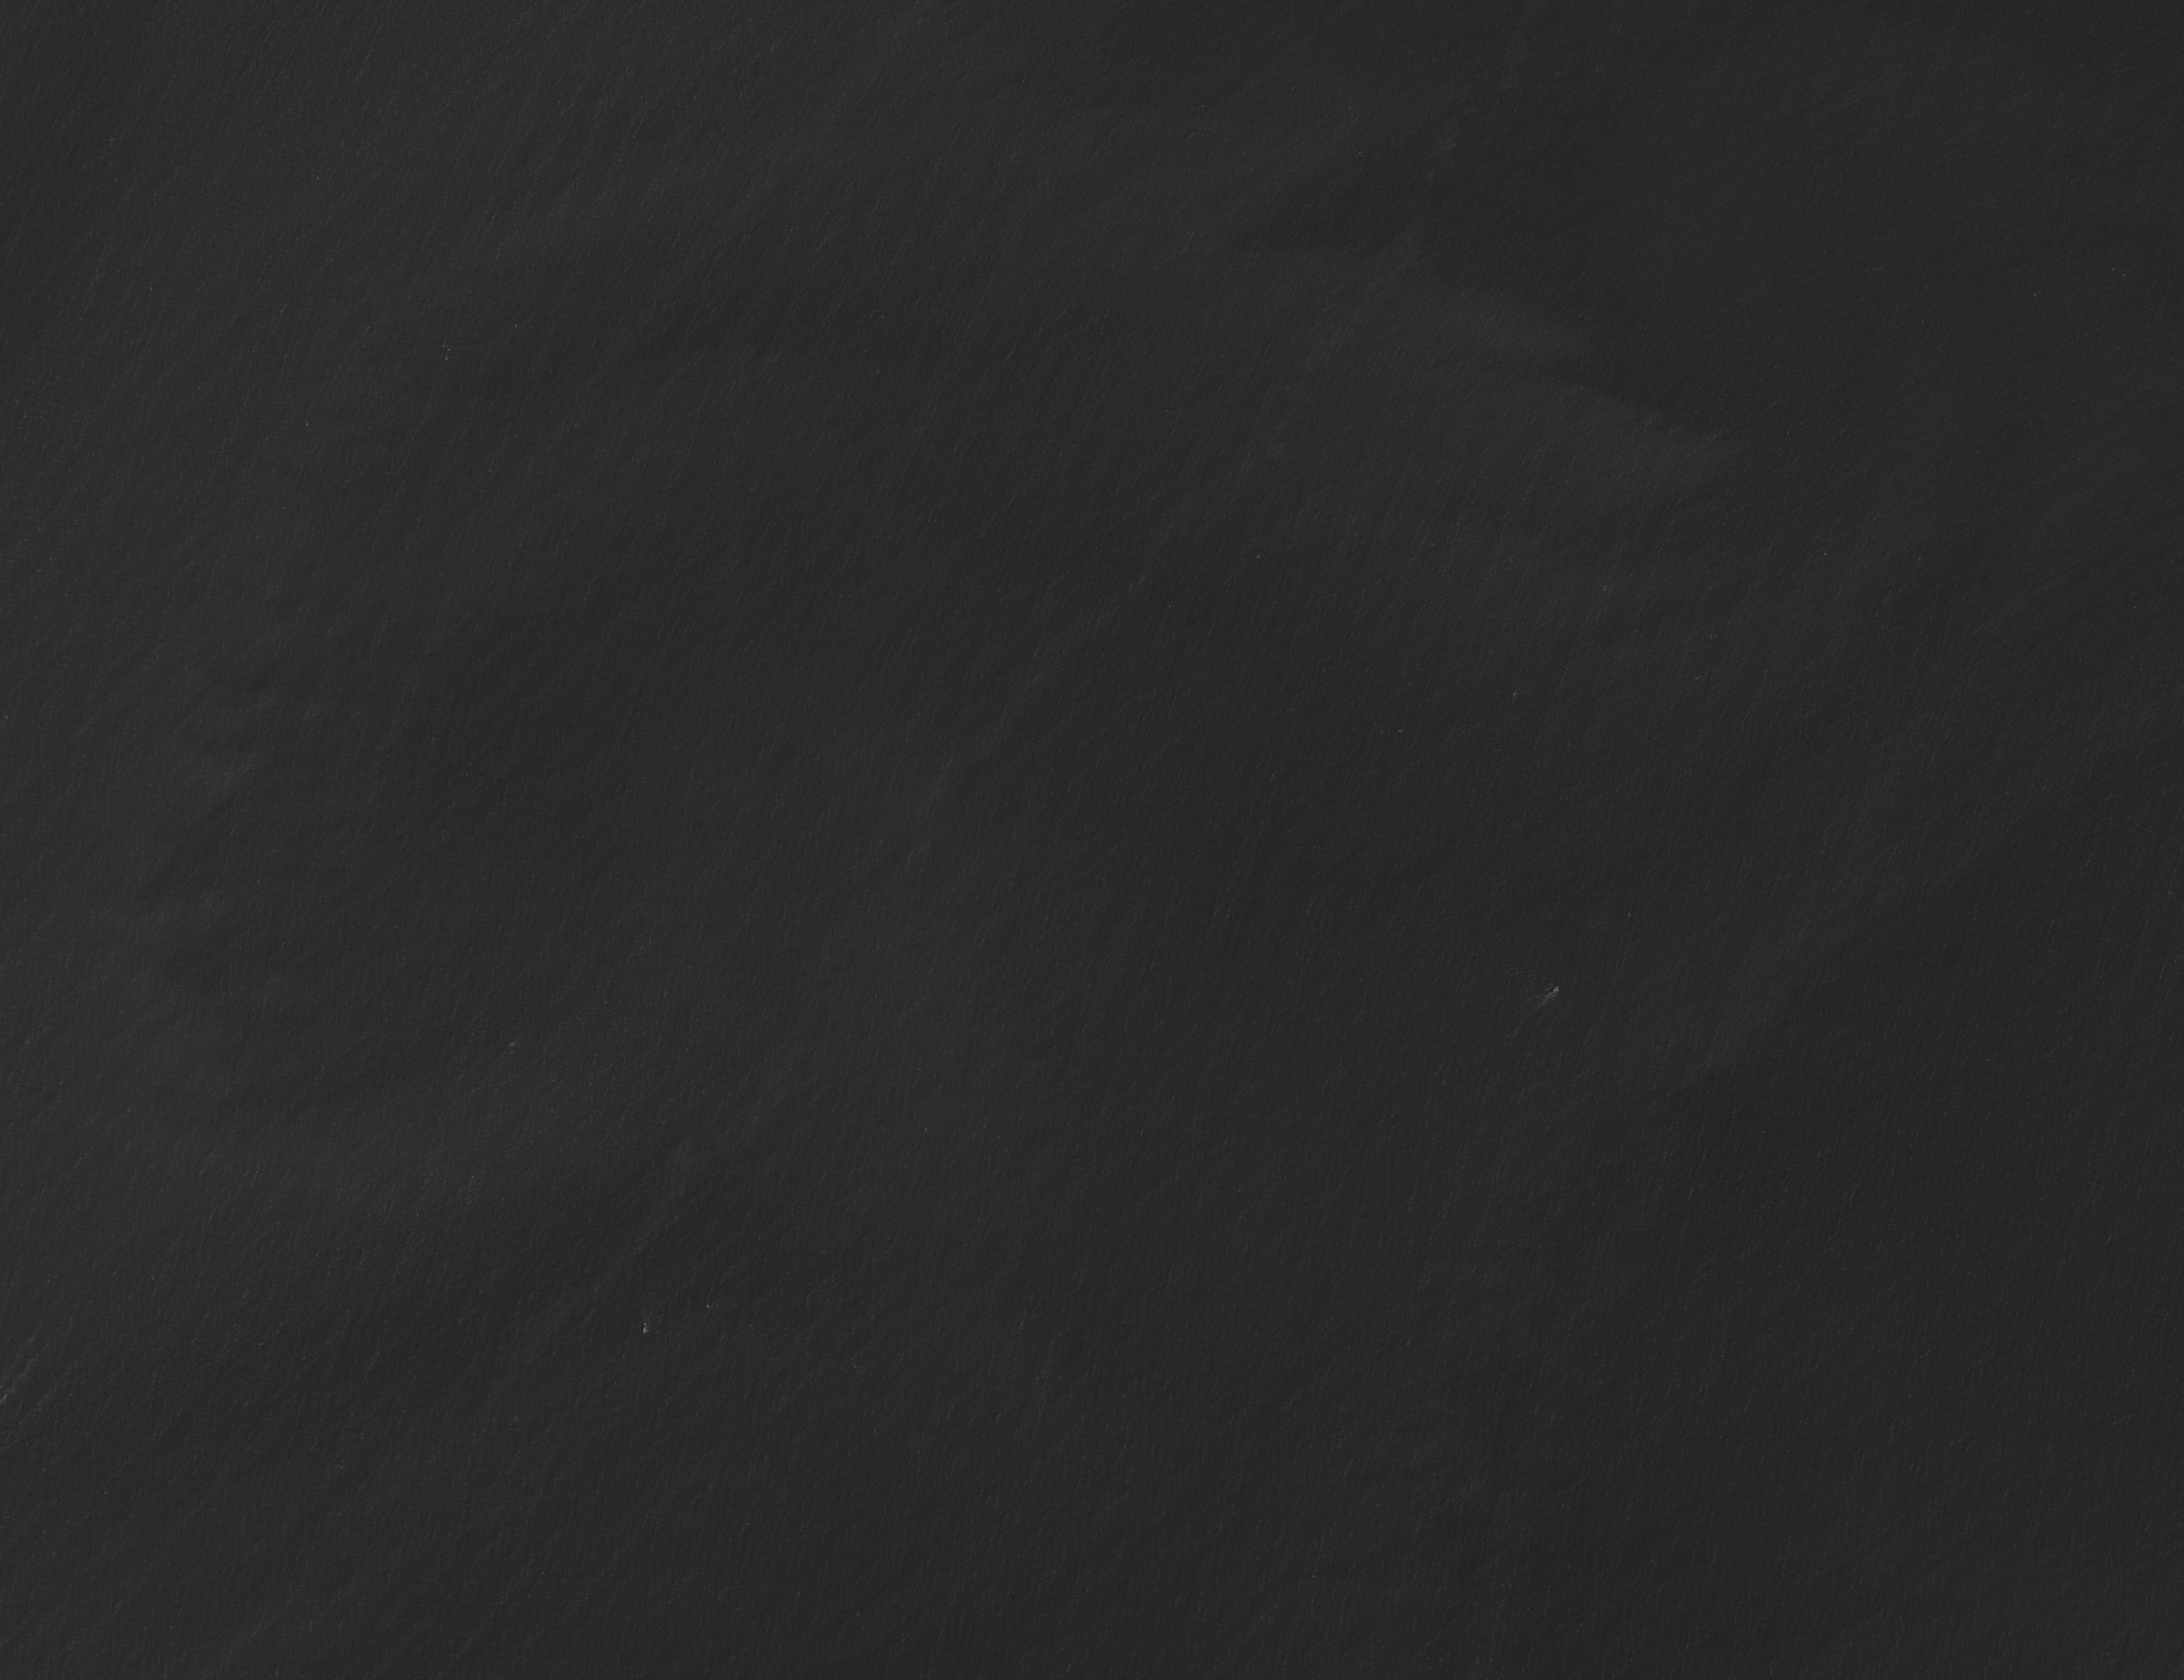ship: (1549, 985, 1561, 995), (642, 1322, 647, 1336)
